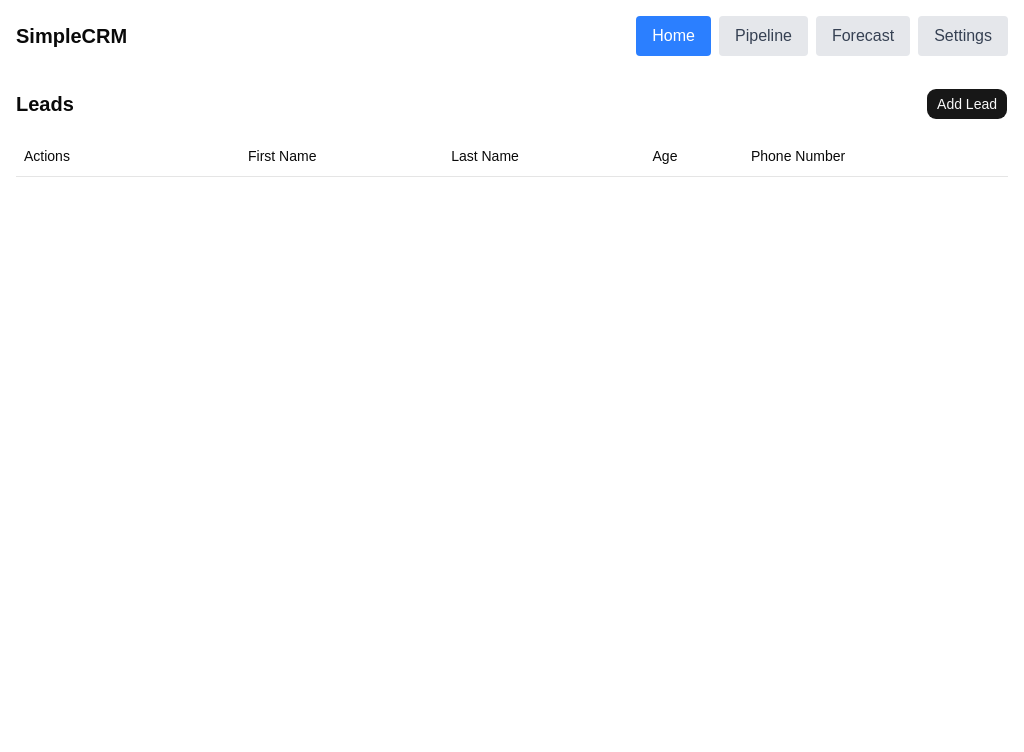
Test: App › shows the home page again after navigating away and back
Click the button "Settings" at (963, 36), box x1=918 y1=16 x2=1008 y2=56
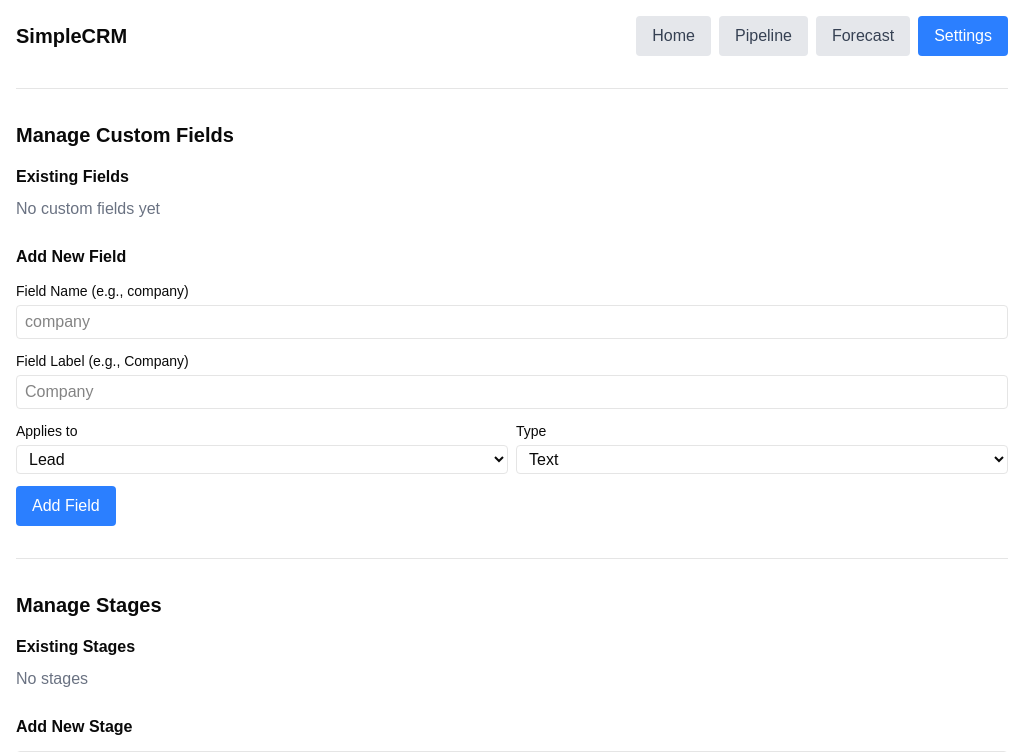
Click the button "Home" at (674, 36), box x1=636 y1=16 x2=711 y2=56
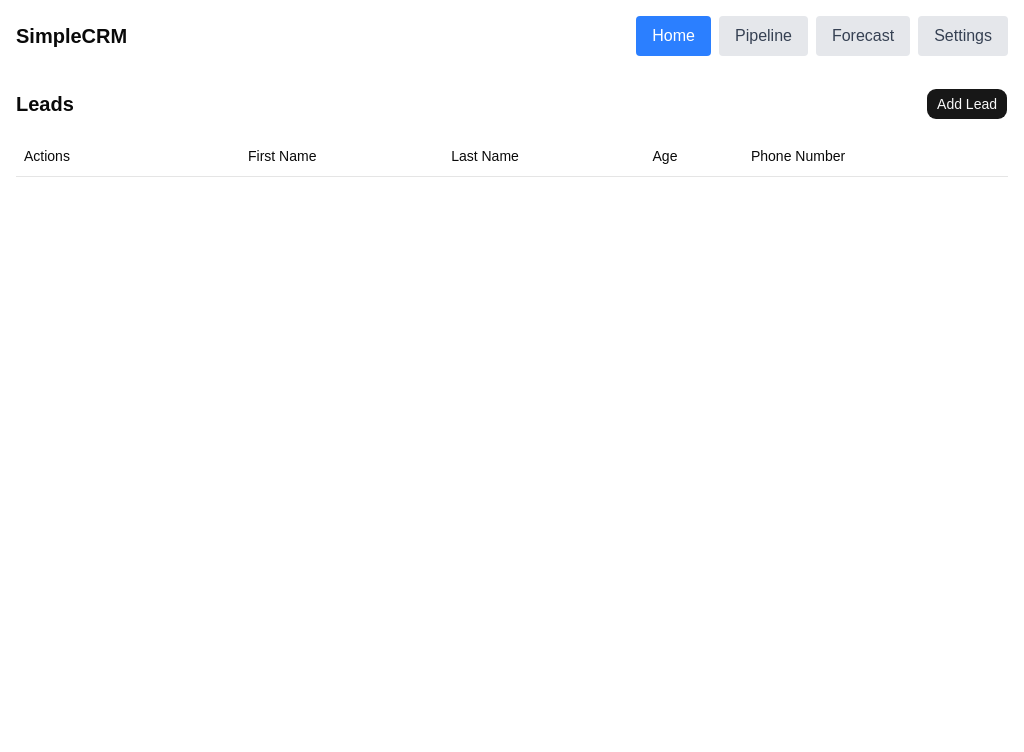
Expected: the heading "Leads" is shown, x1=16 y1=90 x2=74 y2=118
